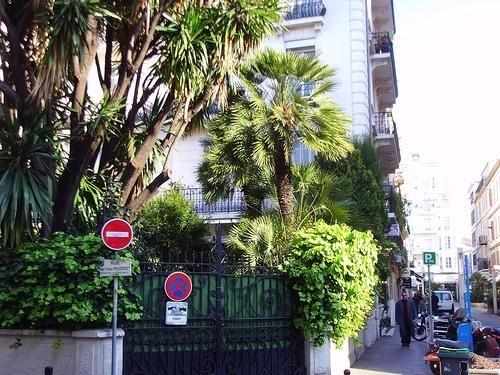car: (432, 291, 456, 316)
motorcycle: (414, 312, 450, 340), (472, 326, 500, 358)
